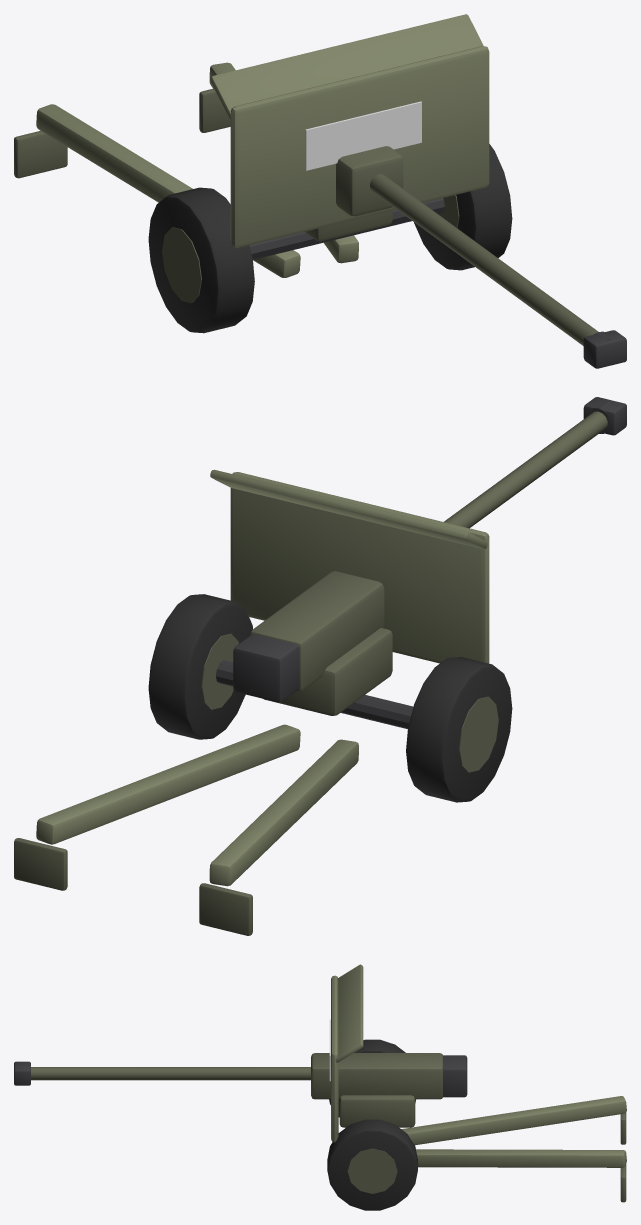
Rendered from at_gun.glb.
The picture shows the model from 3 angles, top to bottom: view 1: azimuth 30°, elevation 25°; view 2: azimuth 150°, elevation 25°; view 3: azimuth 270°, elevation 25°; orthographic projection. The views are drawn at different scales.
Parts seen in each view (by area): view 1: turret, hull; view 2: hull, turret; view 3: hull, turret.
Part boxes in pixels (<box>): turret: <box>210,14,626,368</box>; hull: <box>14,62,512,333</box>; hull: <box>14,594,512,935</box>; turret: <box>210,397,626,702</box>; hull: <box>327,1039,626,1210</box>; turret: <box>14,964,467,1142</box>.
Size of the model in its own units: 2.31 by 1.9 by 6.48.
